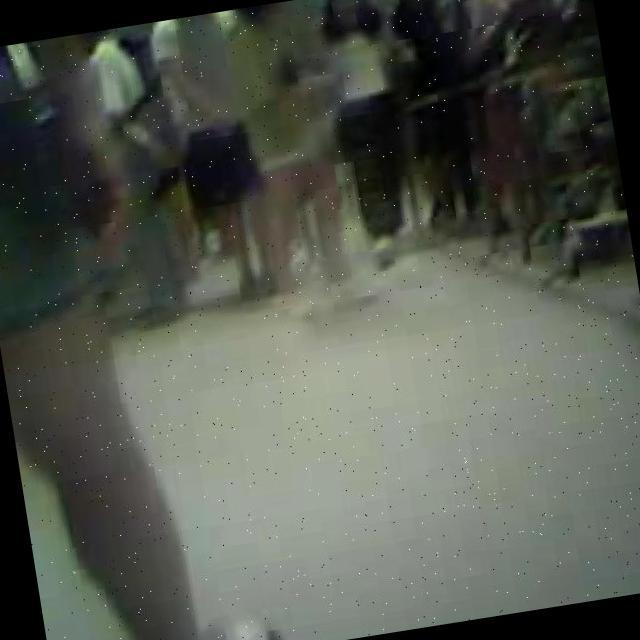person: (0, 17, 289, 640), (224, 0, 372, 316), (142, 10, 276, 302), (66, 23, 190, 326), (305, 0, 440, 257), (457, 0, 590, 213), (391, 0, 485, 225)
